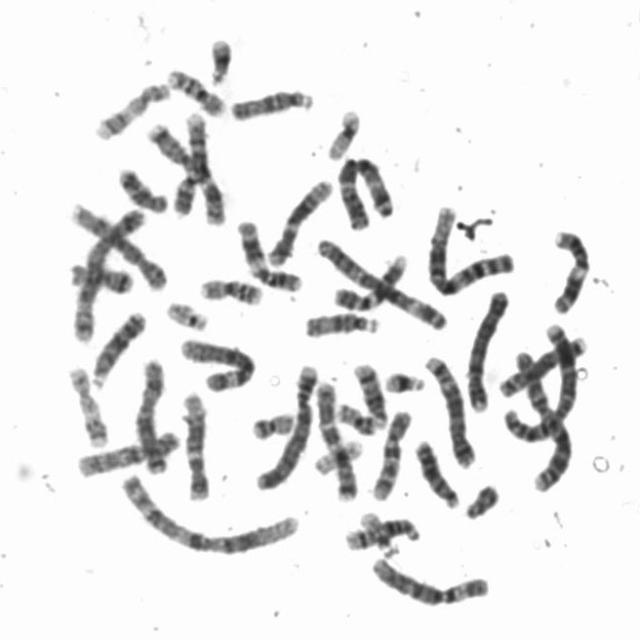A1: (116, 468, 304, 558), (422, 199, 517, 297)
A2: (498, 322, 588, 446), (508, 336, 578, 493)
A3: (312, 232, 450, 332), (333, 150, 399, 230)
B4: (249, 358, 320, 492), (462, 283, 513, 414)
B5: (66, 200, 152, 345), (420, 349, 478, 469)
C10: (70, 425, 182, 479), (366, 404, 416, 504)
C11: (233, 214, 306, 294), (546, 224, 592, 316)
C12: (264, 172, 338, 268), (178, 387, 214, 503)
C6: (368, 552, 492, 609), (174, 332, 258, 393)
C7: (142, 115, 232, 226), (311, 375, 361, 503)
C8: (65, 196, 172, 292), (497, 328, 592, 401)
C9: (330, 249, 410, 312), (168, 105, 212, 218)
D13: (87, 304, 148, 390), (410, 434, 462, 509)
D14: (341, 512, 424, 552), (348, 357, 389, 430)
D15: (226, 82, 317, 122), (300, 306, 384, 340)
E16: (163, 63, 228, 118), (195, 271, 266, 307)
E17: (89, 75, 172, 142), (64, 361, 112, 449)
E18: (114, 162, 171, 214), (65, 256, 136, 296)
F19: (322, 103, 364, 162), (309, 435, 366, 476)
F20: (332, 396, 378, 437), (248, 405, 298, 442)
G21: (204, 31, 235, 86), (380, 365, 428, 395)
G22: (356, 506, 400, 559), (161, 295, 212, 332)
X: (69, 200, 162, 294), (131, 353, 169, 475)
Y: (460, 477, 502, 522)
